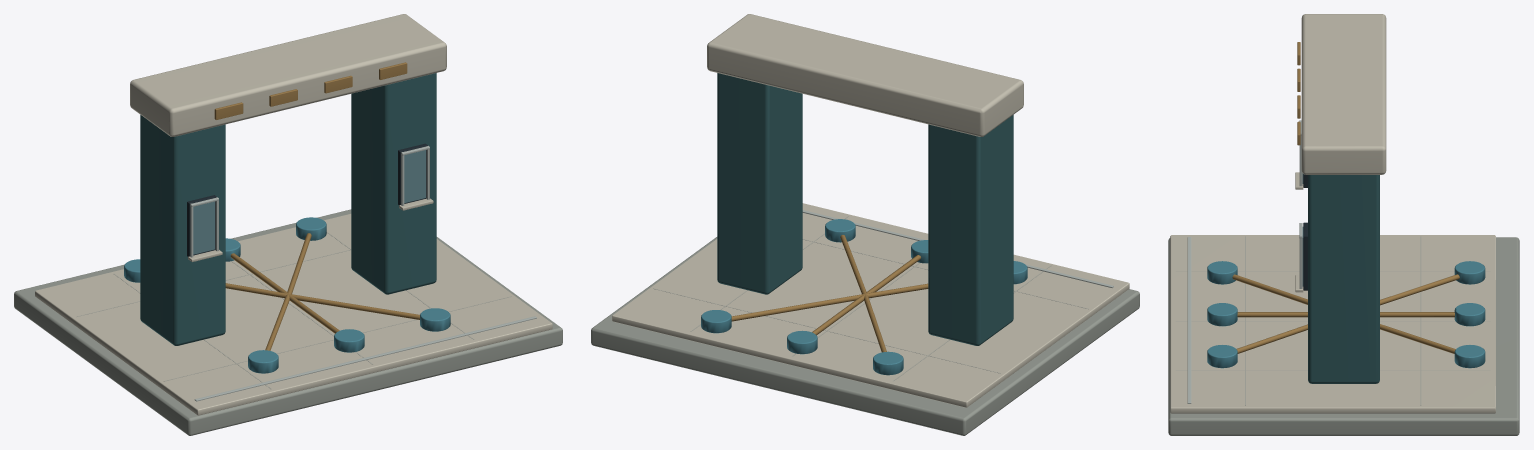
The model's file is idea-d1372690.glb.
3 views of the same model, side by side, from view 1: azimuth 30°, elevation 25°; view 2: azimuth 150°, elevation 25°; view 3: azimuth 270°, elevation 25° (orthographic).
Visible parts, largest first — view 1: Karmic API Gateway; view 2: Karmic API Gateway; view 3: Karmic API Gateway.
Part boxes in pixels (left/top/right/bottom): Karmic API Gateway: left=14, top=14, right=562, bottom=435; Karmic API Gateway: left=591, top=14, right=1139, bottom=435; Karmic API Gateway: left=1168, top=14, right=1519, bottom=435.
Bounding box in the file's own units: 4.8 × 3.25 × 3.9.
